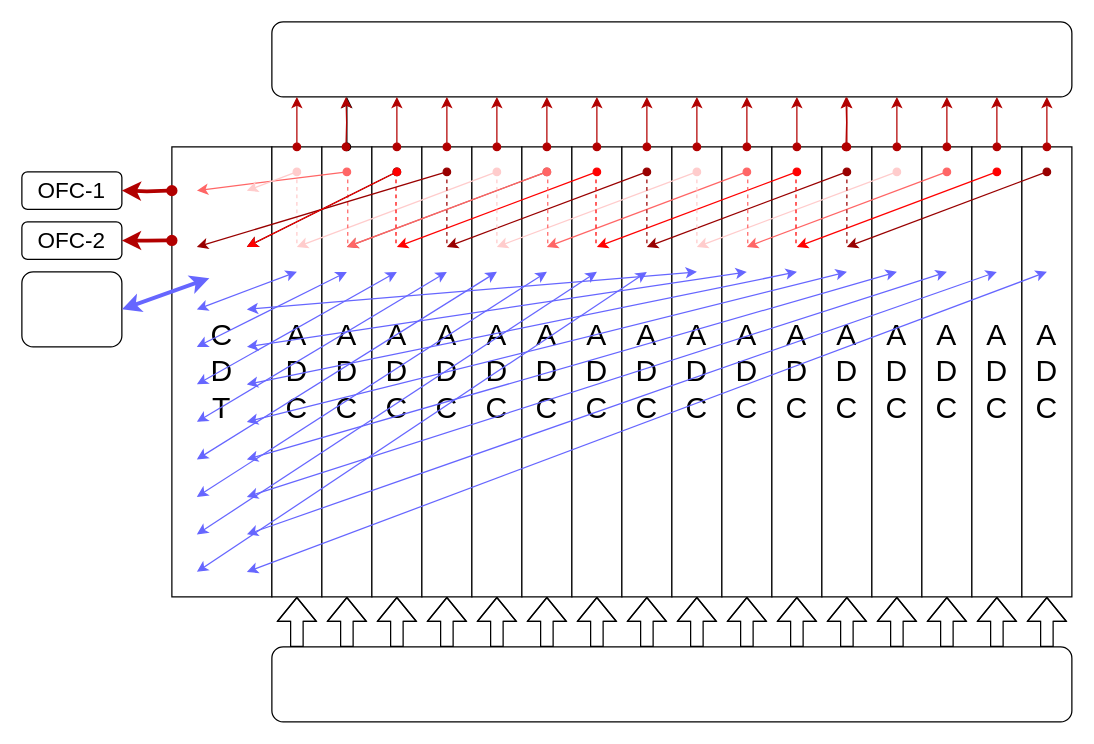
Image size: 1094x744. Some labels were removed from this diagram. The shapes that lost their labels are listed below. From the top down, each one's centre as x and y in pixels, then its label:
the point at 671,59: Level 2
the point at 71,309: Fanout CDT
the point at 671,684: Detector
